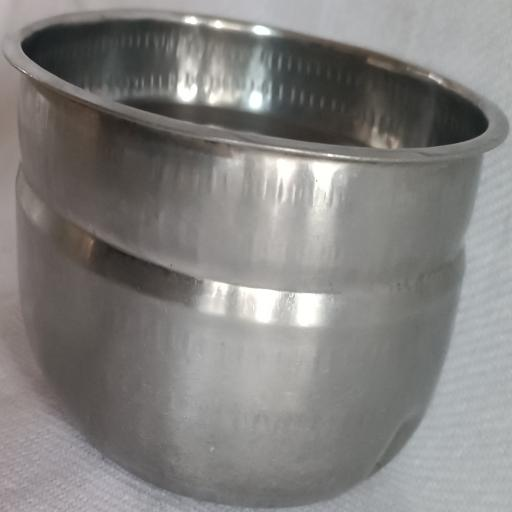vessel: (5, 10, 508, 507)
